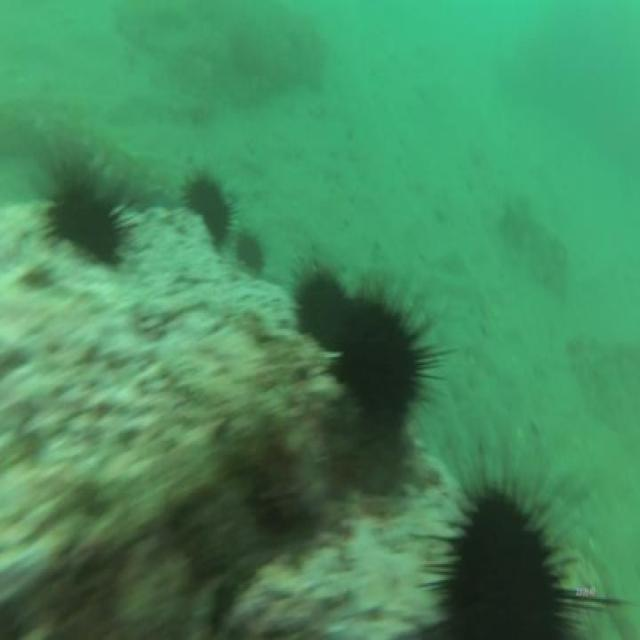echinus: (428, 474, 570, 640), (332, 283, 422, 450), (44, 158, 124, 277), (291, 248, 353, 354), (180, 168, 230, 256), (237, 226, 264, 278)
